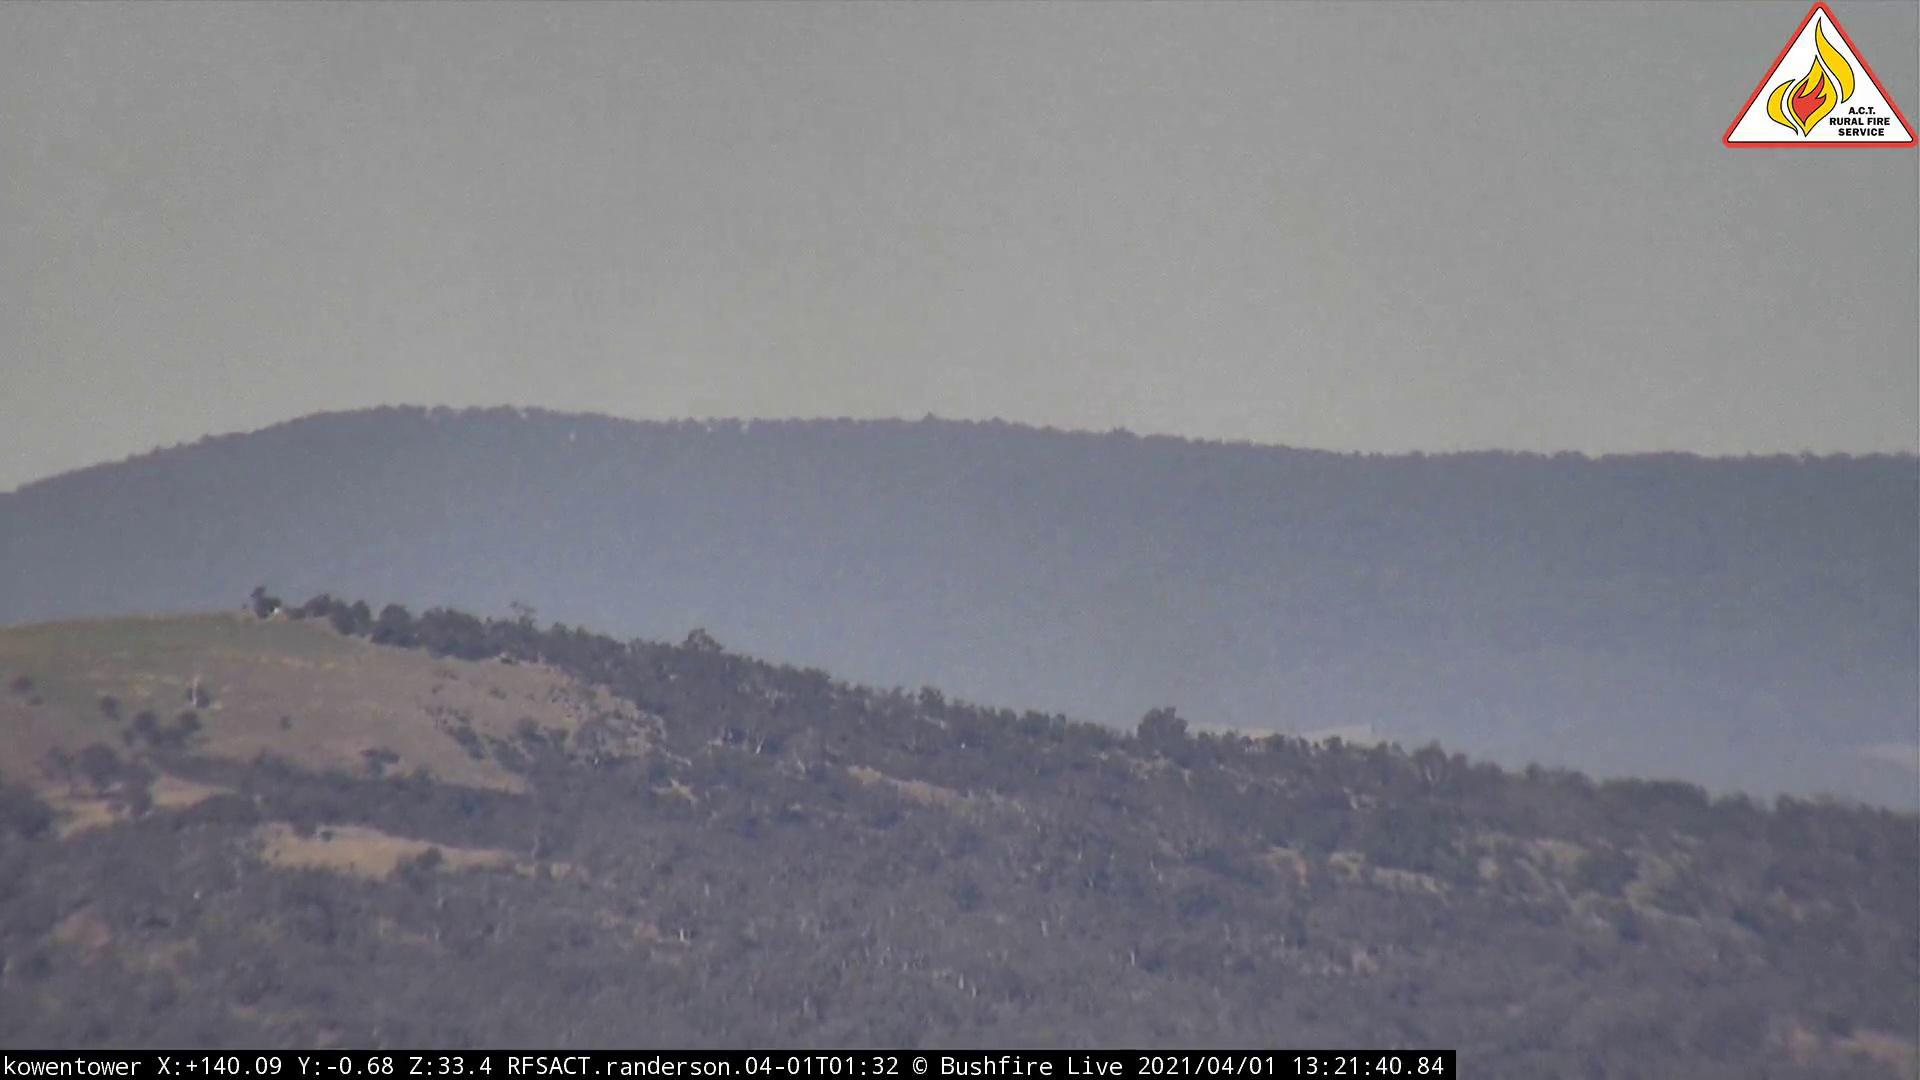Smoke: (1131, 695, 1255, 749)
